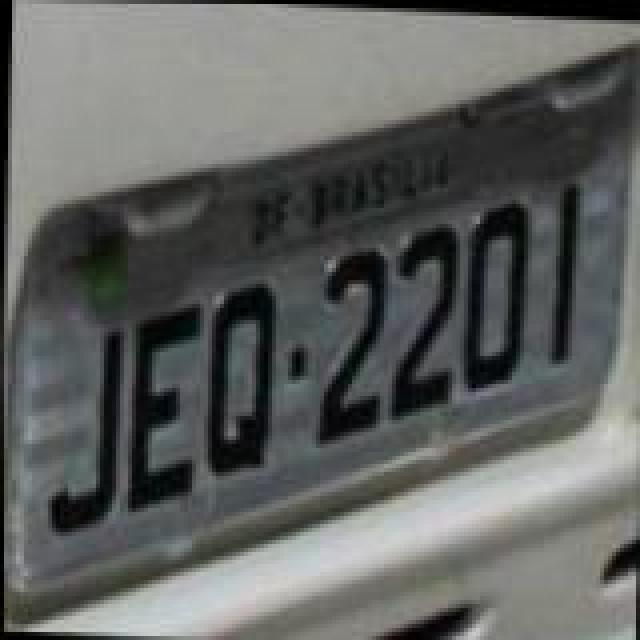1: (544, 176, 584, 364)
2: (310, 234, 390, 446), (382, 216, 462, 424)
E: (122, 292, 206, 516)
J: (40, 320, 124, 536)
O: (452, 190, 532, 394)
Q: (198, 274, 282, 478)
